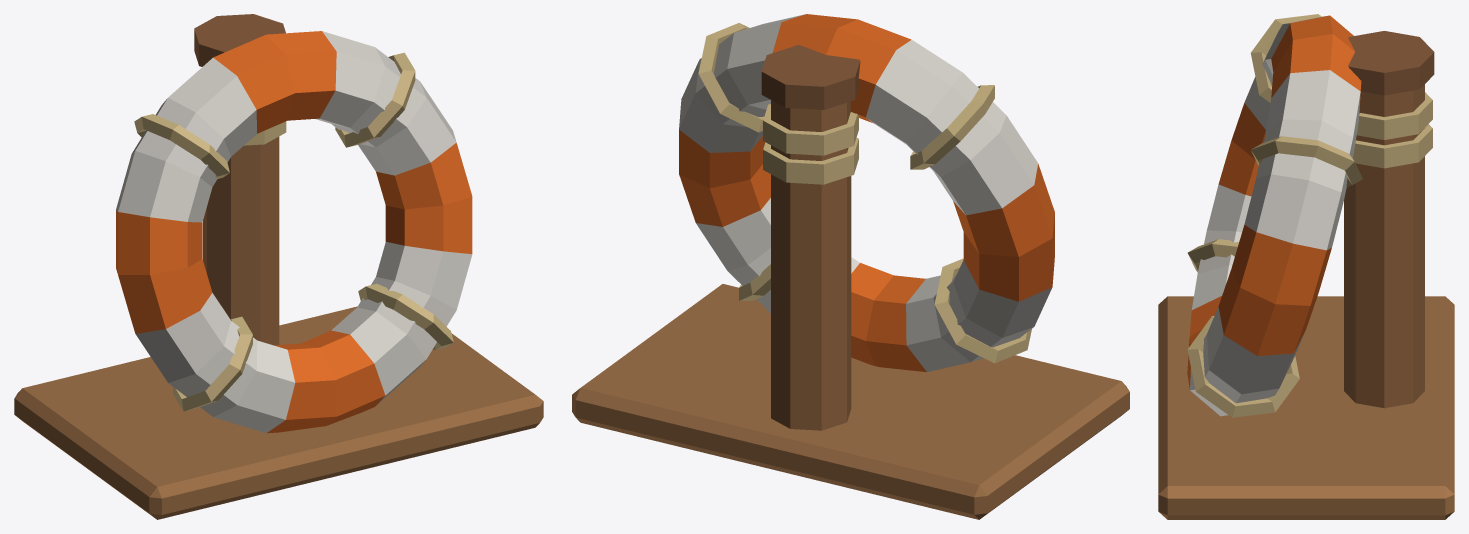
Rendered from habitat_prop_chomp.fbx.
The picture shows the model from 3 angles, left to right: view 1: azimuth 30°, elevation 25°; view 2: azimuth 150°, elevation 25°; view 3: azimuth 270°, elevation 25°; orthographic projection. The views are drawn at different scales.
Visible parts, largest first — view 1: habitat_prop_chomp; view 2: habitat_prop_chomp; view 3: habitat_prop_chomp.
Part boxes in pixels (x1=…): habitat_prop_chomp: x1=14, y1=14, x2=543, y2=519; habitat_prop_chomp: x1=572, y1=14, x2=1129, y2=519; habitat_prop_chomp: x1=1158, y1=14, x2=1454, y2=519.
Bounding box in the file's own units: 1.5 × 1.38 × 0.95.
